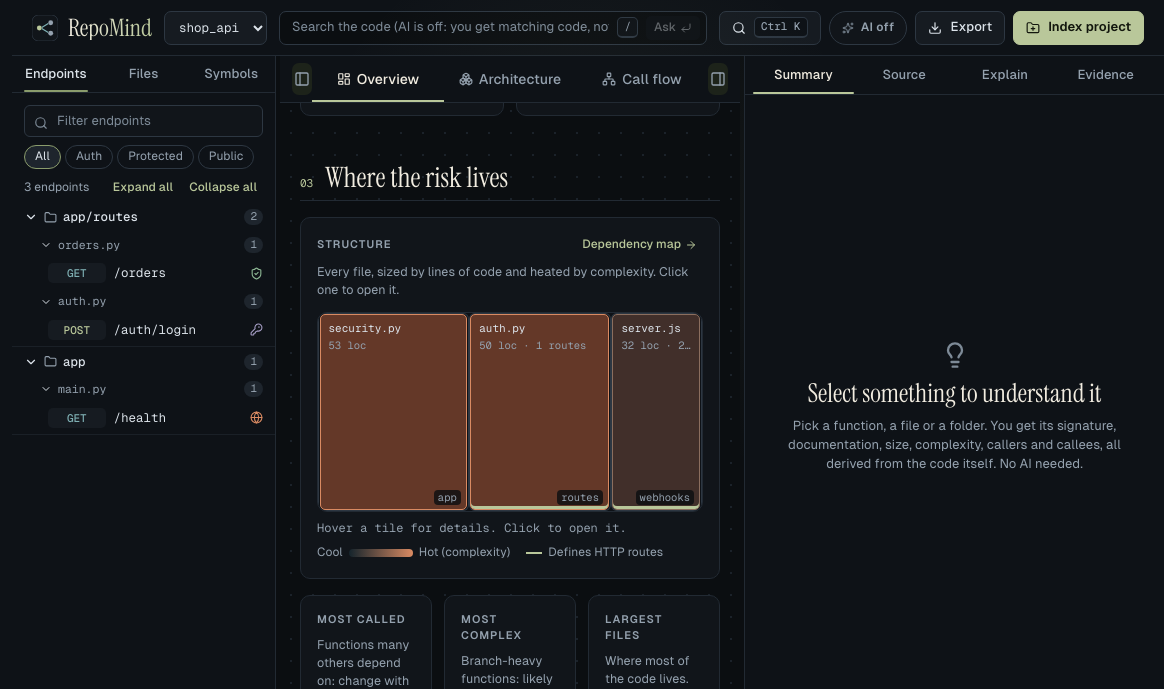
Test: Overview (works with no AI) › draws a treemap whose cells open files with a static summary
(page scrolled)
Click the button with aria-label "app/routes/auth.py, 50 lines, 1 routes" at (540, 412), box [469,313,611,511]
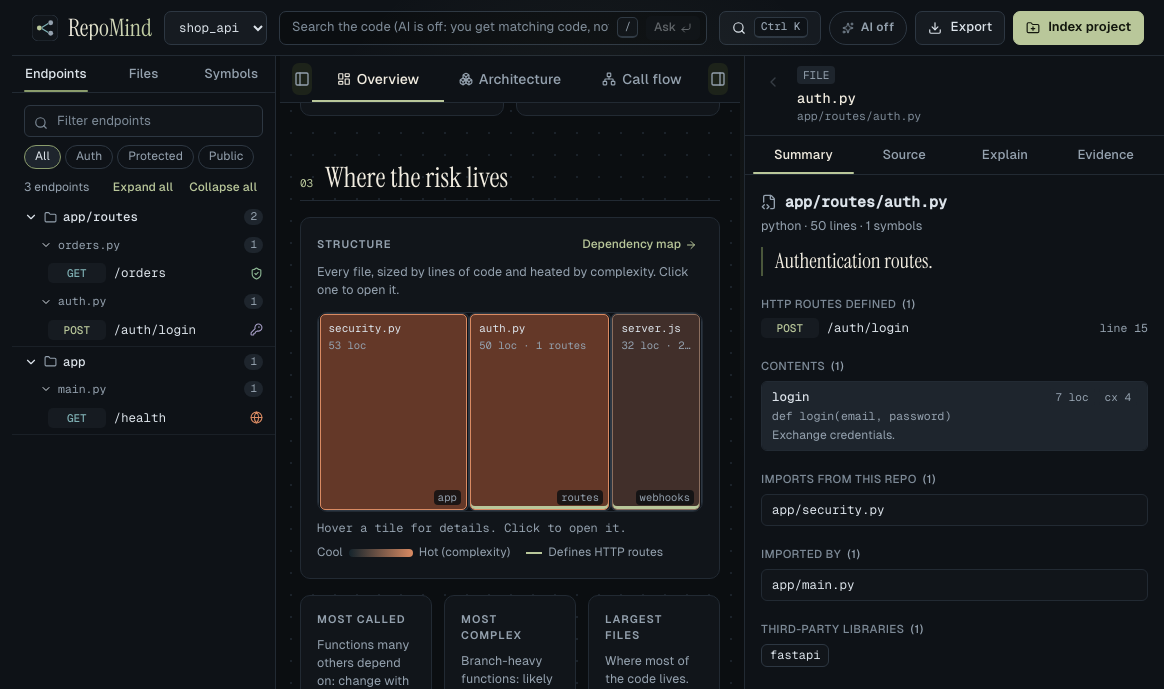
Expected: the text "Authentication routes." is shown, [761,247,1148,276]
Expected: the text "def login(email, password)" is shown, [772,408,951,423]
Expected: the button "app/main.py" is shown, [761,569,1148,601]
